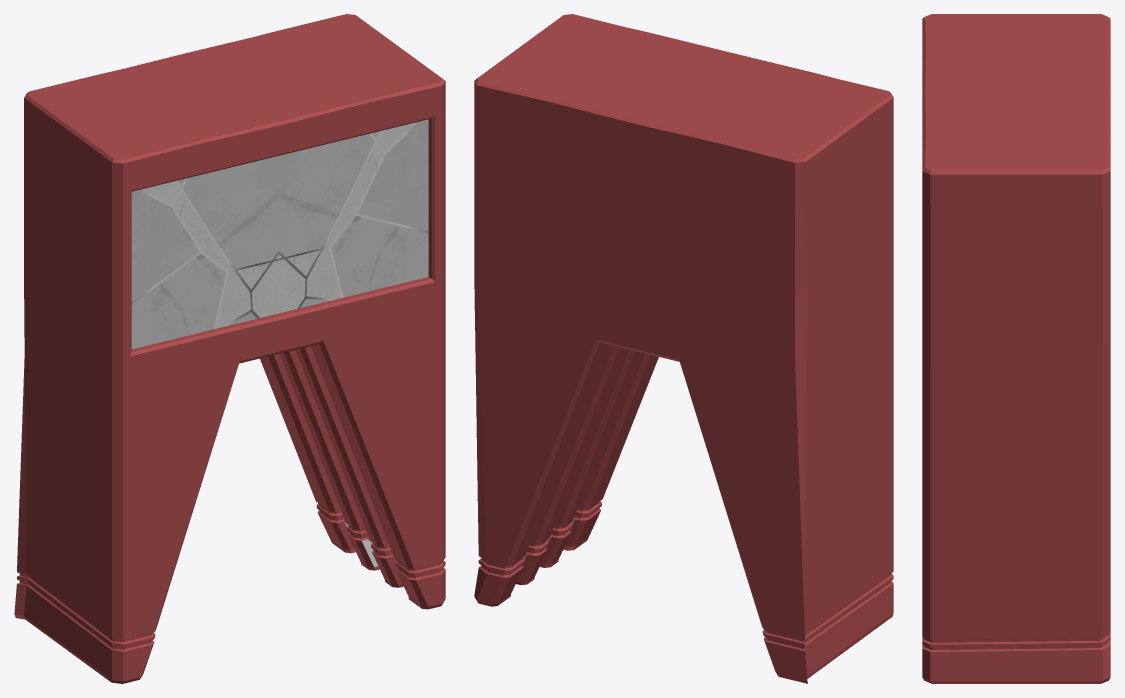
Rendered from porte_tri_uv.fbx.
3 views of the same model, side by side, from view 1: azimuth 30°, elevation 25°; view 2: azimuth 150°, elevation 25°; view 3: azimuth 270°, elevation 25° (orthographic). The views are drawn at different scales.
Parts seen in each view (by area): view 1: A_portal_short_light_triangle_5; view 2: A_portal_short_light_triangle_5; view 3: A_portal_short_light_triangle_5.
Part boxes in pixels (box(x1,y1,x2,y2)): A_portal_short_light_triangle_5: box(14, 14, 445, 683); A_portal_short_light_triangle_5: box(474, 14, 893, 683); A_portal_short_light_triangle_5: box(922, 14, 1110, 683).
Size of the model in its own units: 406 by 600 by 200.
